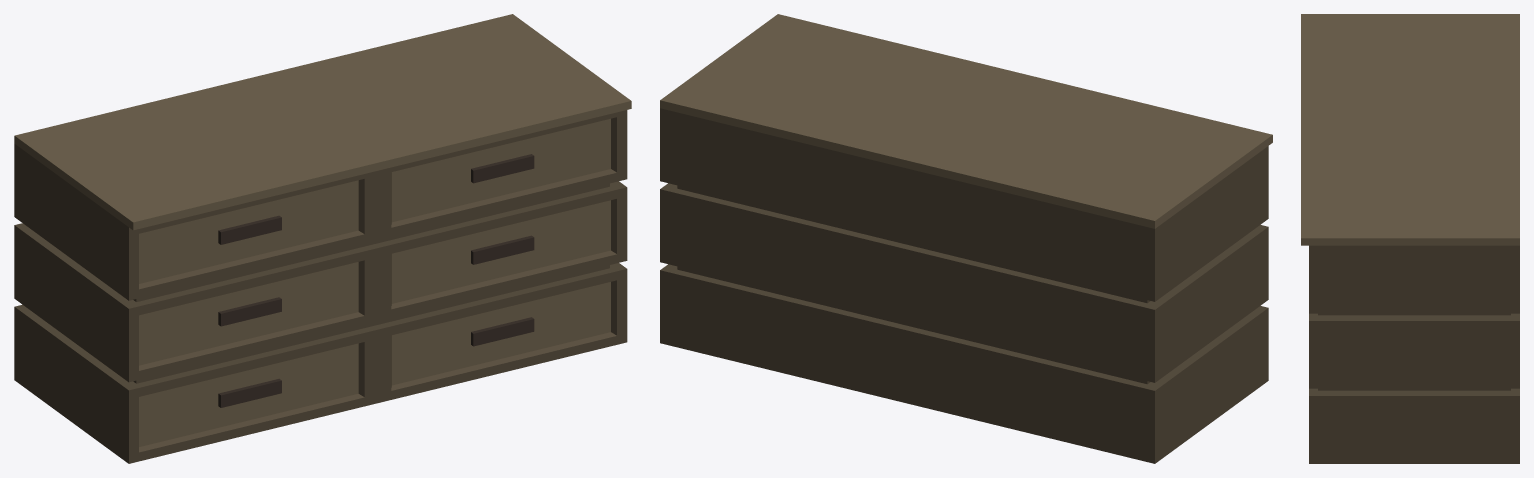
File: Drawer_5.glb
3 renders of one model, left to right at view 1: azimuth 30°, elevation 25°; view 2: azimuth 150°, elevation 25°; view 3: azimuth 270°, elevation 25°, orthographic. The views are drawn at different scales.
Visible parts, largest first — view 1: Drawer_5; view 2: Drawer_5; view 3: Drawer_5.
Boxes of the visible parts, x1,y1,x2,y2 form: Drawer_5: [14, 14, 631, 463]; Drawer_5: [660, 14, 1272, 463]; Drawer_5: [1301, 14, 1519, 463].
Size of the model in its own units: 0.8382 by 0.3997 by 0.3458.
